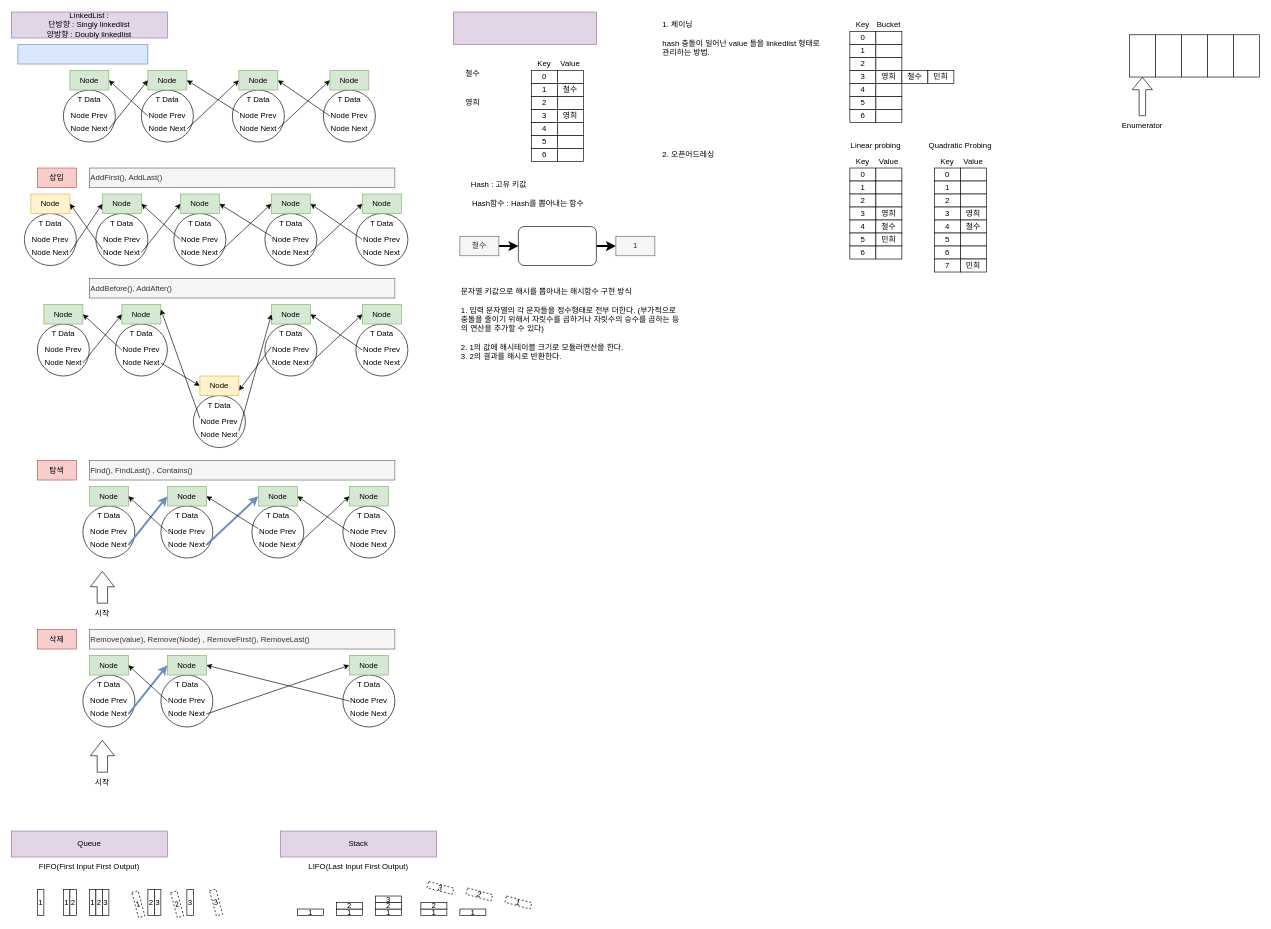
The diagram is 1271 pixels wide and 929 high, and some of its shapes have lost their labels. The centre of each missing label's shape, as x and y in pixels:
"HashTable" goes at (x=524, y=28).
"Hash함수" goes at (x=557, y=246).
"LinkedList<T>" goes at (x=82, y=54).
